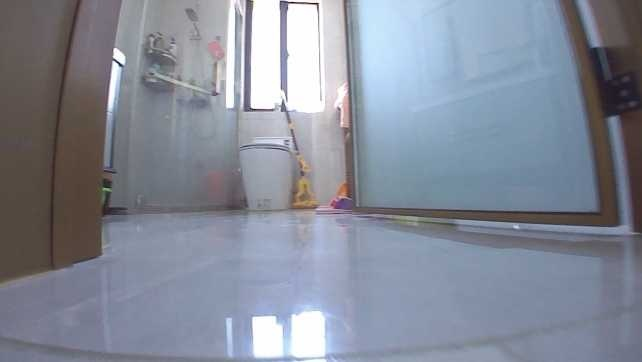door_anno_part: (343, 0, 640, 227)
toilet: (239, 132, 302, 211)
